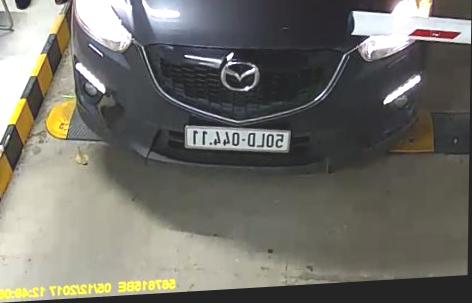License_Plate: (182, 118, 296, 157)
